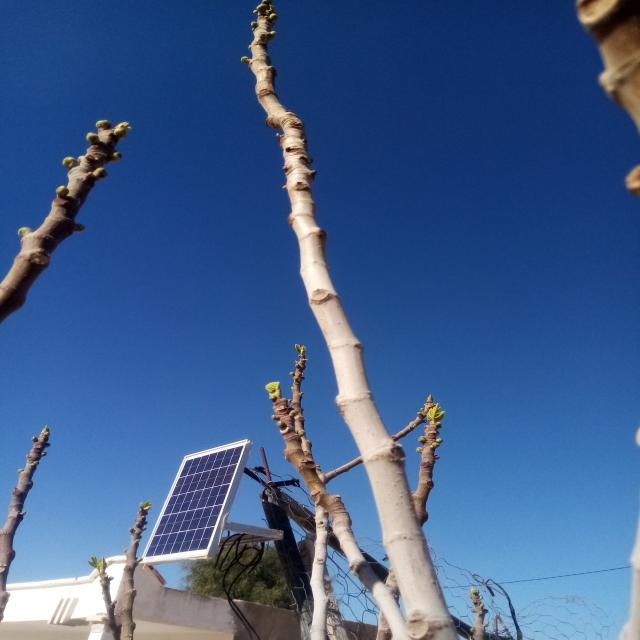no faulty: (142, 440, 250, 564)
